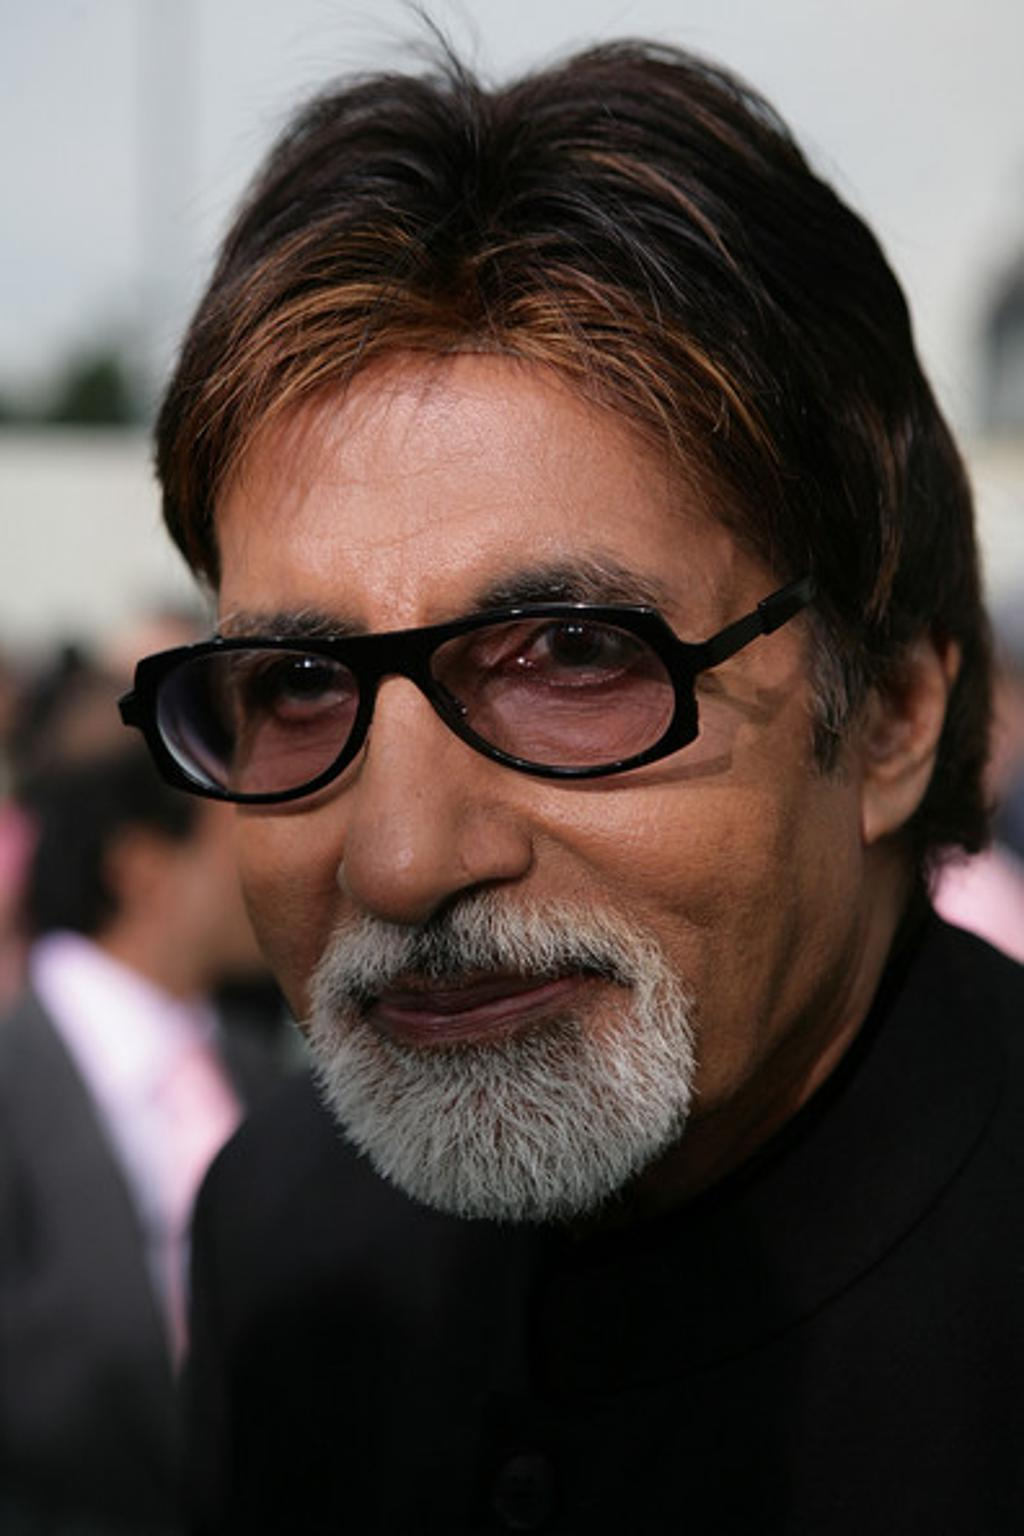face: (219, 366, 868, 1183)
